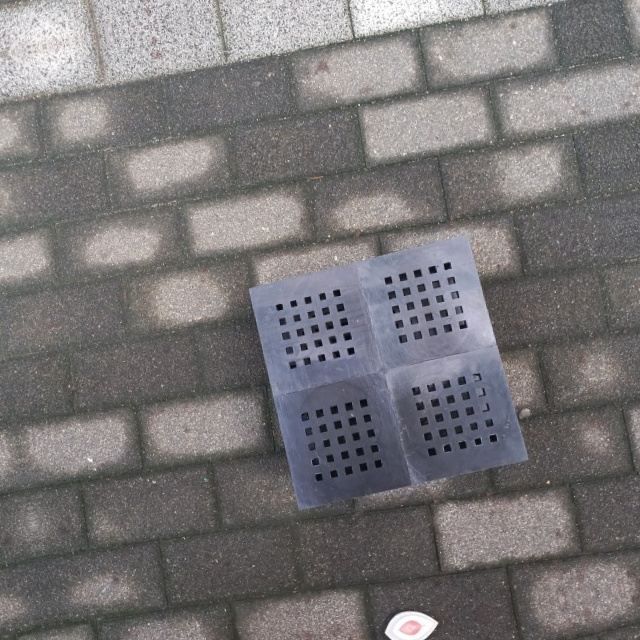pallet: (239, 228, 535, 517)
